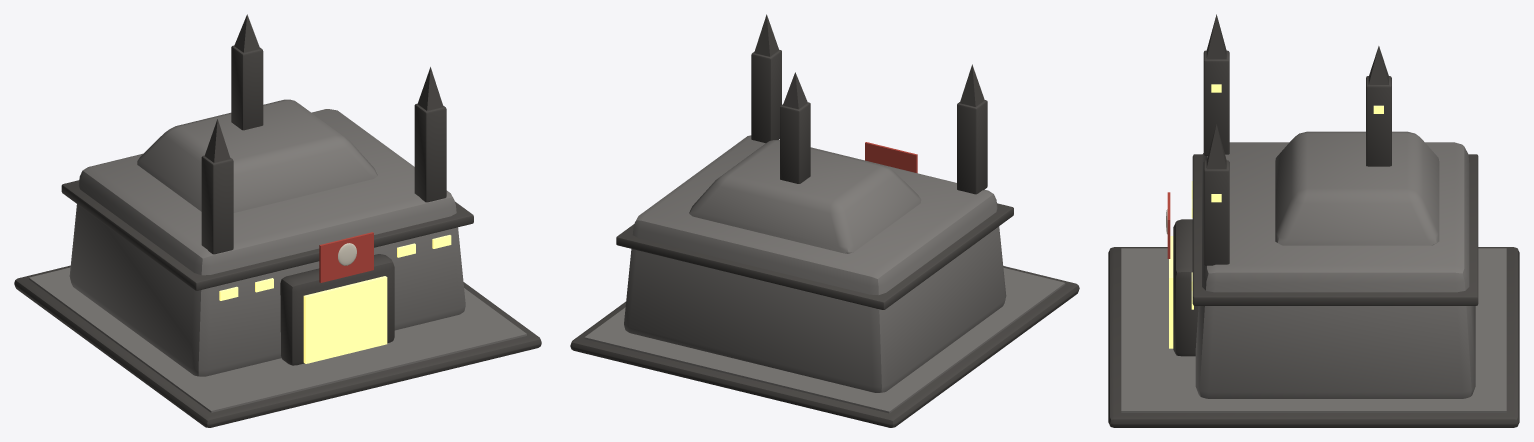
File: barracks_hum.glb
3 views of the same model, side by side, from view 1: azimuth 30°, elevation 25°; view 2: azimuth 150°, elevation 25°; view 3: azimuth 270°, elevation 25° (orthographic). The views are drawn at different scales.
Visible parts, largest first — view 1: barracks_hum; view 2: barracks_hum; view 3: barracks_hum.
Part boxes in pixels (x1,y1,x2,y2): barracks_hum: (14, 14, 541, 427); barracks_hum: (570, 14, 1079, 427); barracks_hum: (1108, 14, 1519, 427).
Bounding box in the file's own units: 1.9 × 1.52 × 1.9.
